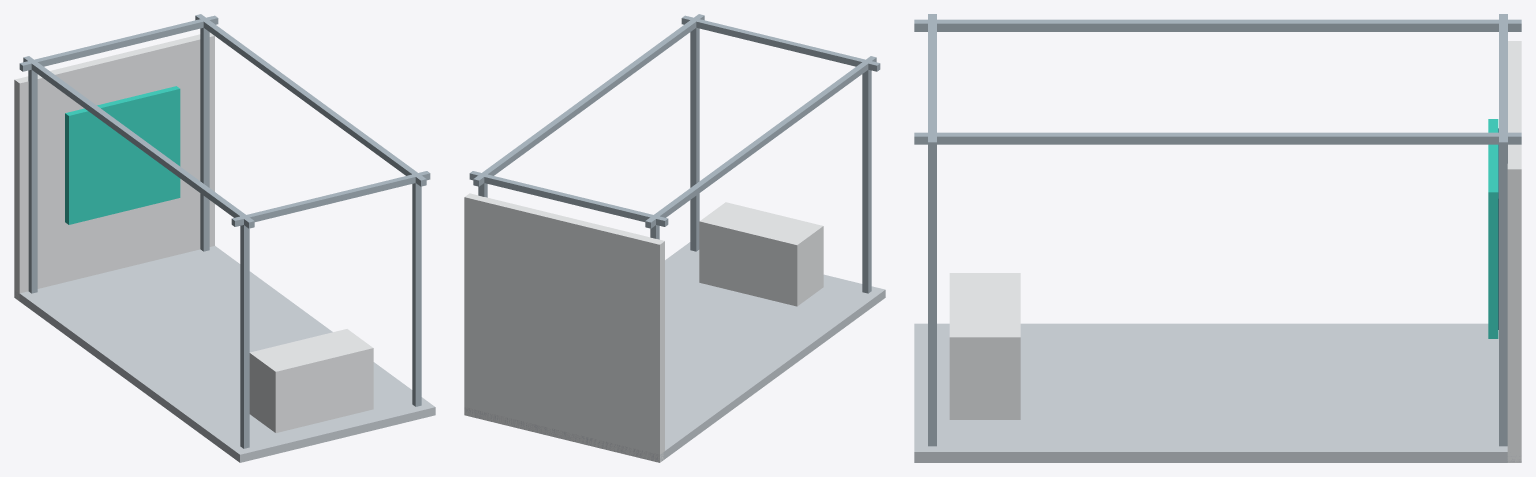
3 views of the same model, side by side, from view 1: azimuth 30°, elevation 25°; view 2: azimuth 150°, elevation 25°; view 3: azimuth 270°, elevation 25° (orthographic). The views are drawn at different scales.
Parts seen in each view (by area): view 1: Exhibition Booth Concept; view 2: Exhibition Booth Concept; view 3: Exhibition Booth Concept.
Boxes of the visible parts, x1,y1,x2,y2 form: Exhibition Booth Concept: (14,14,435,462); Exhibition Booth Concept: (464,14,885,462); Exhibition Booth Concept: (914,14,1521,462).
Bounding box in the file's own units: 3 × 3.49 × 6.
